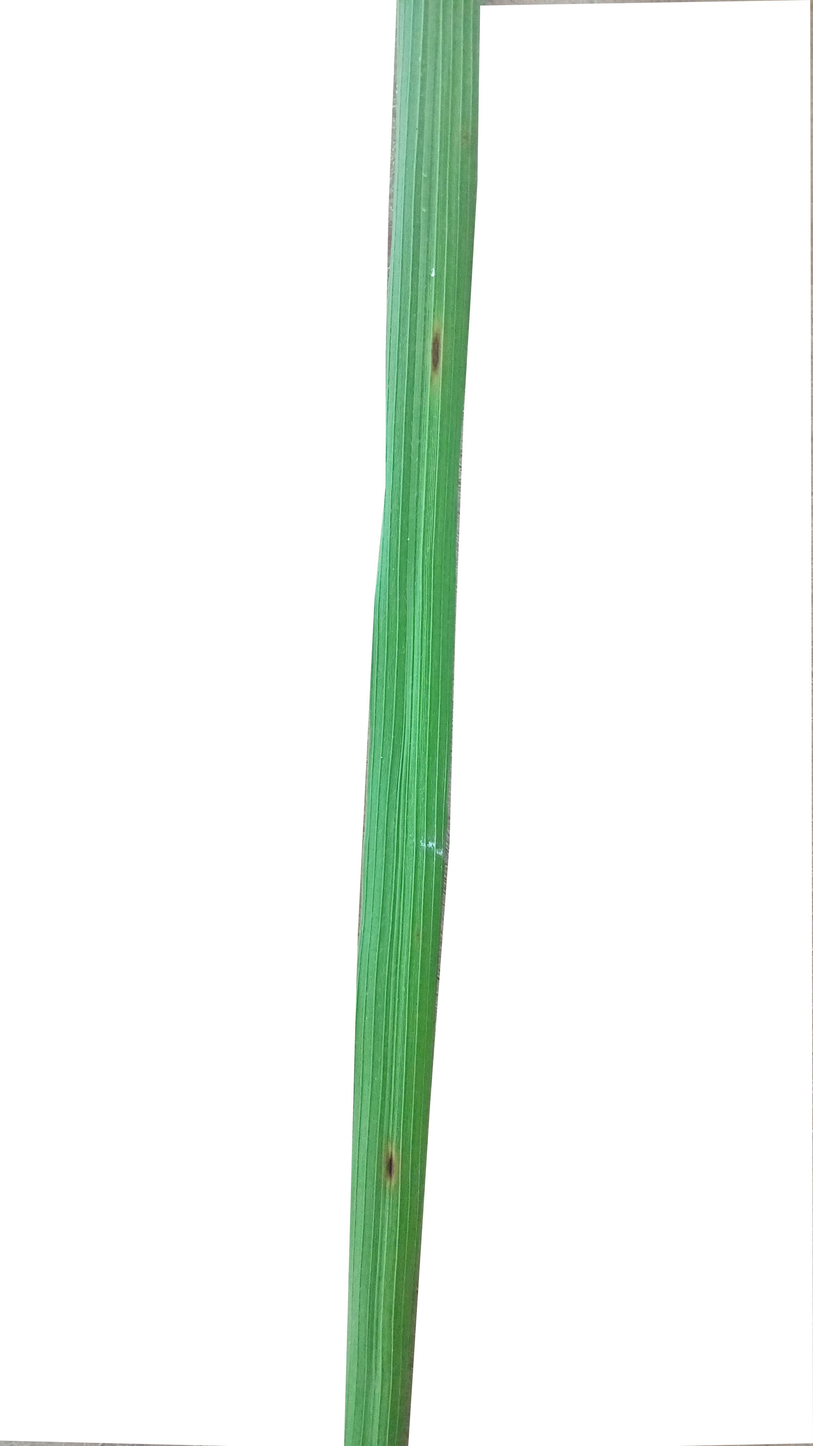Brown spot: (379, 1139, 402, 1195), (428, 310, 443, 386)
